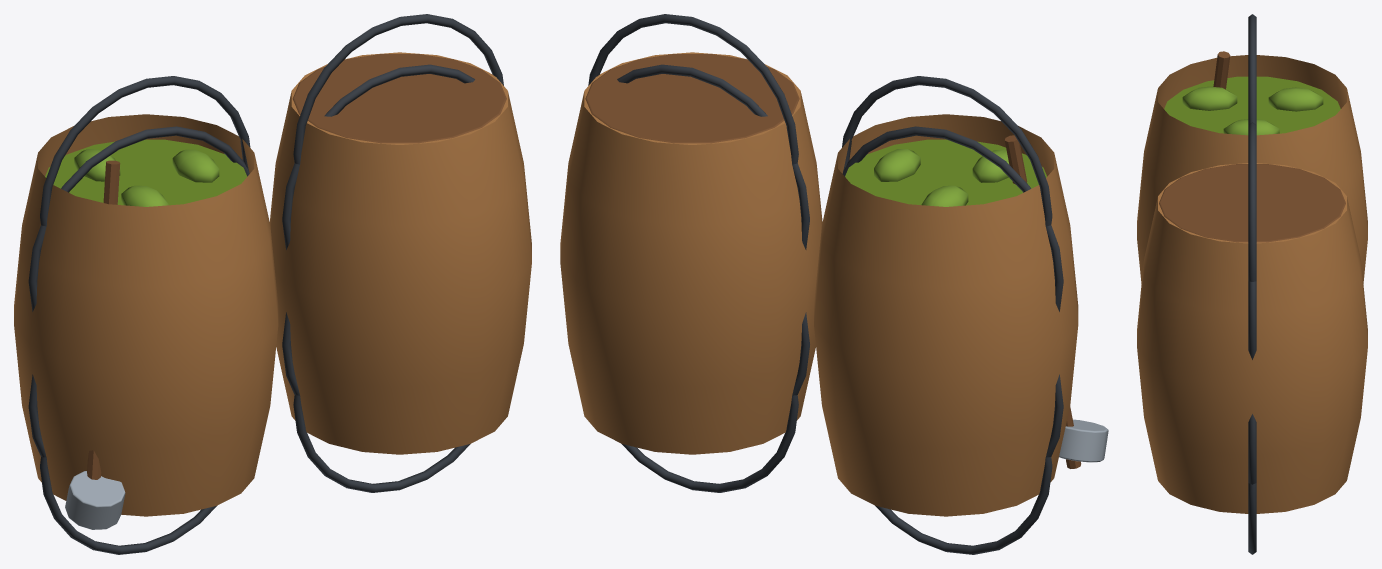
The model's file is mk_barrels.glb.
The picture shows the model from 3 angles, left to right: view 1: azimuth 30°, elevation 25°; view 2: azimuth 150°, elevation 25°; view 3: azimuth 270°, elevation 25°; orthographic projection. The views are drawn at different scales.
Visible parts, largest first — view 1: mk_barrels_body; view 2: mk_barrels_body; view 3: mk_barrels_body.
Part boxes in pixels (x1,y1,x2,y2): mk_barrels_body: (14,14,531,554); mk_barrels_body: (560,14,1108,554); mk_barrels_body: (1137,14,1367,554).
Size of the model in its own units: 1.39 by 1.28 by 0.65.
